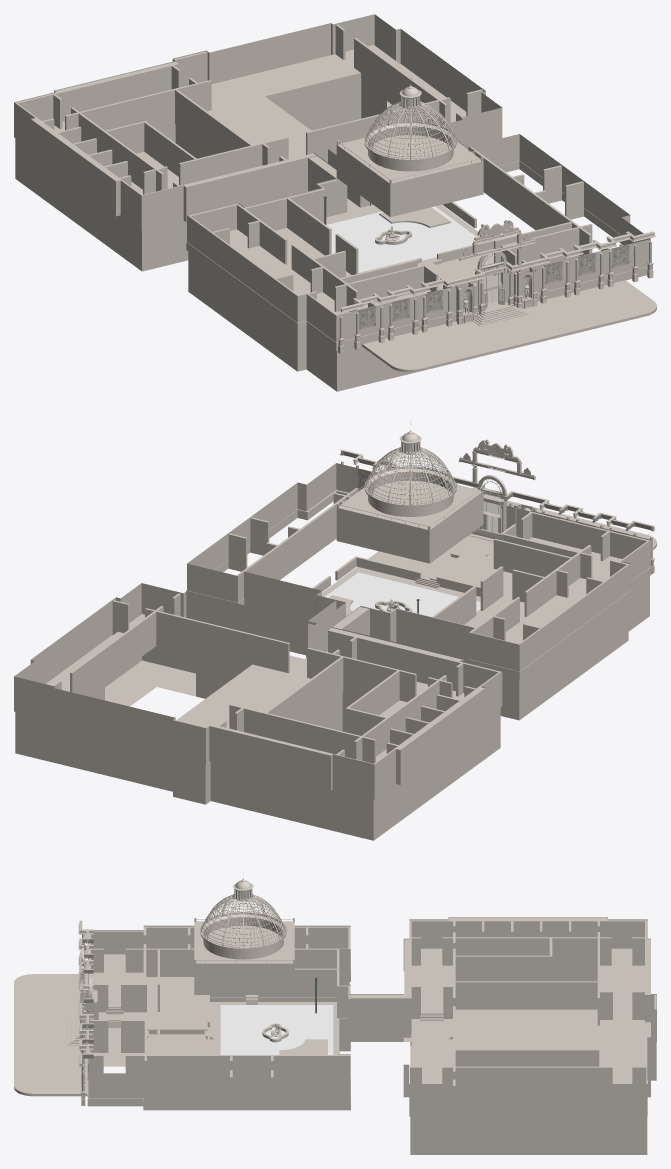
Rendered from glyptoteket-transformed.glb.
3 renders of one model, top to bottom at view 1: azimuth 30°, elevation 25°; view 2: azimuth 150°, elevation 25°; view 3: azimuth 270°, elevation 25°, orthographic. The views are drawn at different scales.
Parts seen in each view (by area): view 1: BACK.001, Aset_building_trim_S_vcdxfcjdw_04_LOD0.002, Plane.014, FRONT.001; view 2: BACK.001, Aset_building_trim_S_vcdxfcjdw_04_LOD0.002, Plane.014; view 3: BACK.001, Aset_building_trim_S_vcdxfcjdw_04_LOD0.002, Plane.014.
Part boxes in pixels (x1=…): BACK.001: x1=14, y1=14, x2=656, y2=391; Aset_building_trim_S_vcdxfcjdw_04_LOD0.002: x1=336, y1=75, x2=655, y2=313; Plane.014: x1=326, y1=206, x2=476, y2=272; FRONT.001: x1=358, y1=244, x2=629, y2=329; BACK.001: x1=14, y1=461, x2=656, y2=840; Aset_building_trim_S_vcdxfcjdw_04_LOD0.002: x1=336, y1=421, x2=655, y2=563; Plane.014: x1=325, y1=572, x2=480, y2=616; BACK.001: x1=14, y1=917, x2=656, y2=1154; Aset_building_trim_S_vcdxfcjdw_04_LOD0.002: x1=78, y1=870, x2=294, y2=1067; Plane.014: x1=220, y1=1005, x2=333, y2=1054.
Size of what is drawn, in the model's own units: 22.56 by 12.98 by 36.36.
5 materials, 1 textured.
